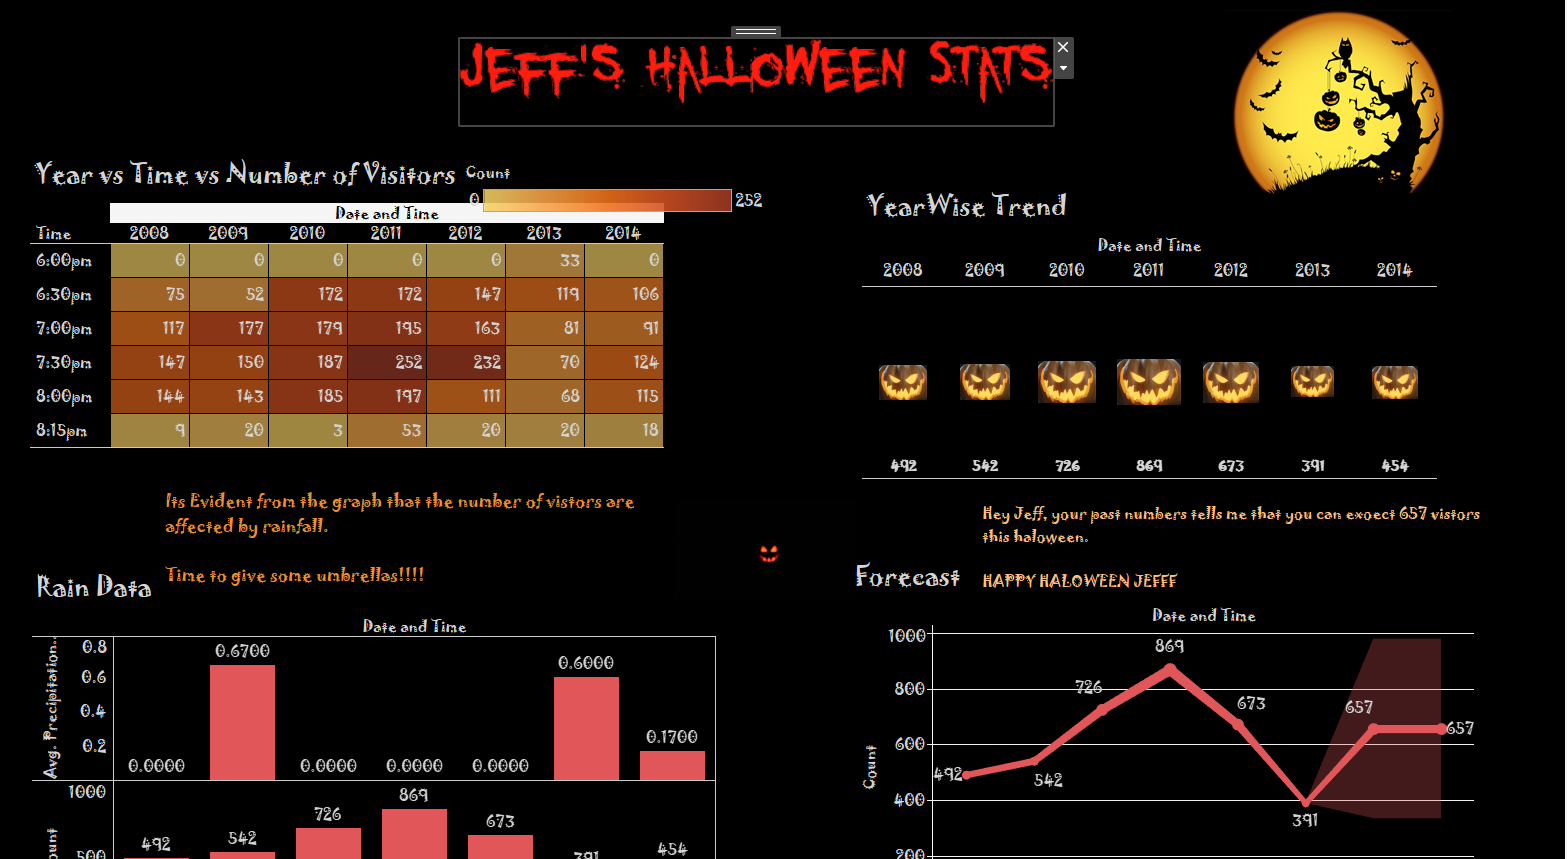

What the dashboard file says about the page in this screenshot:
{"tool":"tableau","page":{"name":"Dashboard 1","canvas":[1566,968],"ordinal":0},"visuals":[{"type":"image","param":"C:/Users/Siva/Desktop/December Break/Tab Course/Haloween/halloween-scary-night-o","box":[1211.8,12.6,351.9,184]},{"type":"image","param":"C:/Users/Siva/Desktop/December Break/Tab Course/Haloween/jeff.png","box":[461,42,593,86]},{"type":"worksheet","title":"Year vs Time vs Number of Visitors","mark":"Square","rows":["Time"],"cols":["Date and Time"],"box":[31,153,698,307]},{"type":"legend","title":"Year vs Time vs Number of Visitors","param":"[federated.16xd7lu0v8lnfb165jart1kay5jy].[sum:Count:qk]","box":[466,164.1,302,53.5]},{"type":"worksheet","title":"YearWise Trend","mark":"Shape","cols":["Date and Time"],"box":[863,185,671,309]},{"type":"text","box":[163,473,534,135]},{"type":"image","param":"C:/Users/Siva/Desktop/December Break/Tab Course/Haloween/2.jpg","box":[675,487,182,130]},{"type":"text","box":[980,496,530,133]},{"type":"worksheet","title":"Forecast","mark":"Automatic","rows":["Count"],"cols":["Date and Time"],"box":[851.8,554.6,623.6,386.9]},{"type":"worksheet","title":"Rain Data","mark":"Bar","rows":["Precipitation (in)","Count"],"cols":["Date and Time"],"box":[33.2,565.9,684.4,388.2]}]}

Visuals, with their boxes on the page's 1566x968 design canvas (x1, y1, x2, y2). These are canvas units, not pixel positions in the 1567x859 screenshot, which may show the page scaled, cropped or inside an application window:
image: pyautogui.locateOnScreen(1212, 13, 1564, 197)
image: pyautogui.locateOnScreen(461, 42, 1054, 128)
"Year vs Time vs Number of Visitors" worksheet (Square marks): pyautogui.locateOnScreen(31, 153, 729, 460)
"Year vs Time vs Number of Visitors" legend: pyautogui.locateOnScreen(466, 164, 768, 218)
"YearWise Trend" worksheet (Shape marks): pyautogui.locateOnScreen(863, 185, 1534, 494)
text: pyautogui.locateOnScreen(163, 473, 697, 608)
image: pyautogui.locateOnScreen(675, 487, 857, 617)
text: pyautogui.locateOnScreen(980, 496, 1510, 629)
"Forecast" worksheet: pyautogui.locateOnScreen(852, 555, 1475, 942)
"Rain Data" worksheet (Bar marks): pyautogui.locateOnScreen(33, 566, 718, 954)
